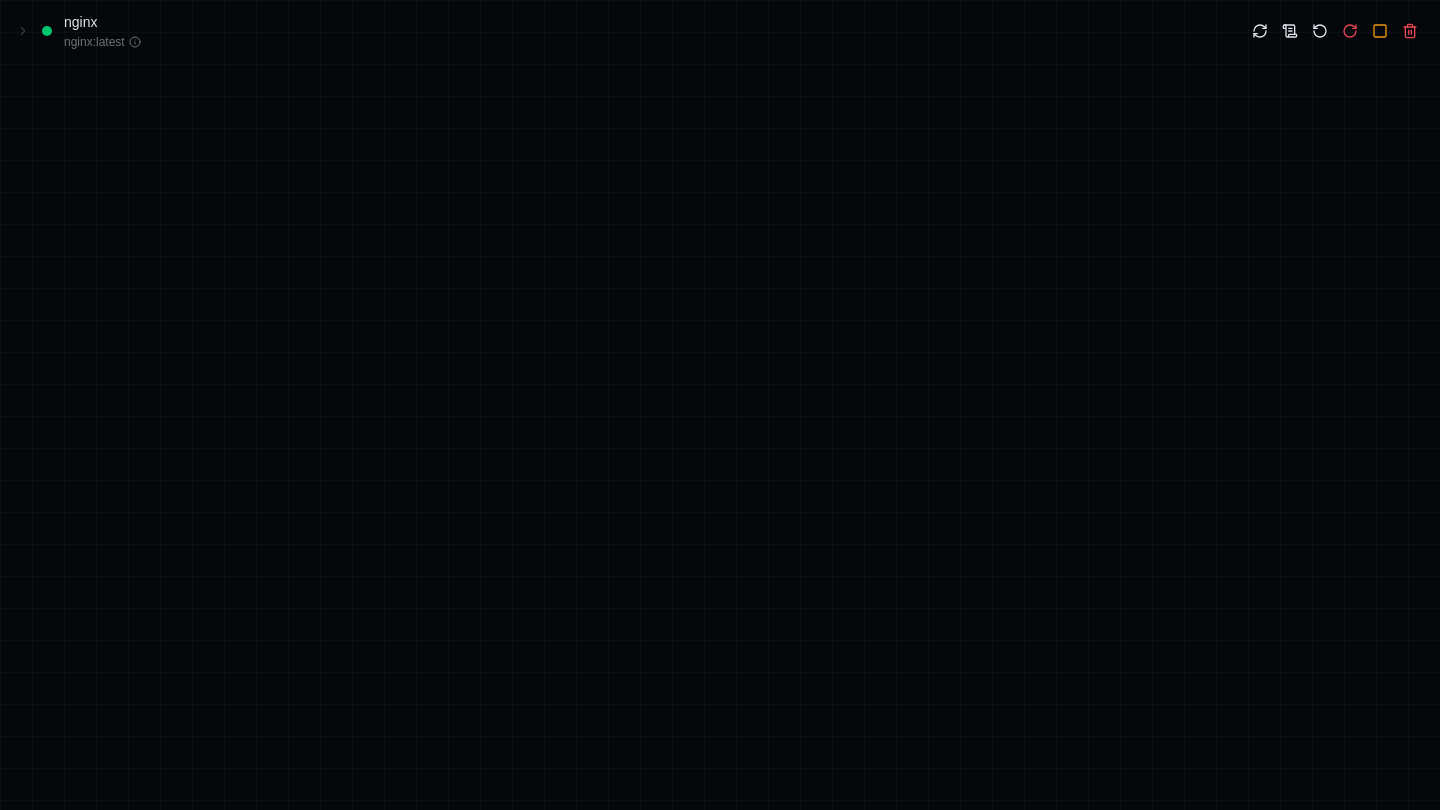
Test: ContainerRow › clicking chevron expands the config panel
Click the button named "Expand": (23, 31) [16,24,30,38]
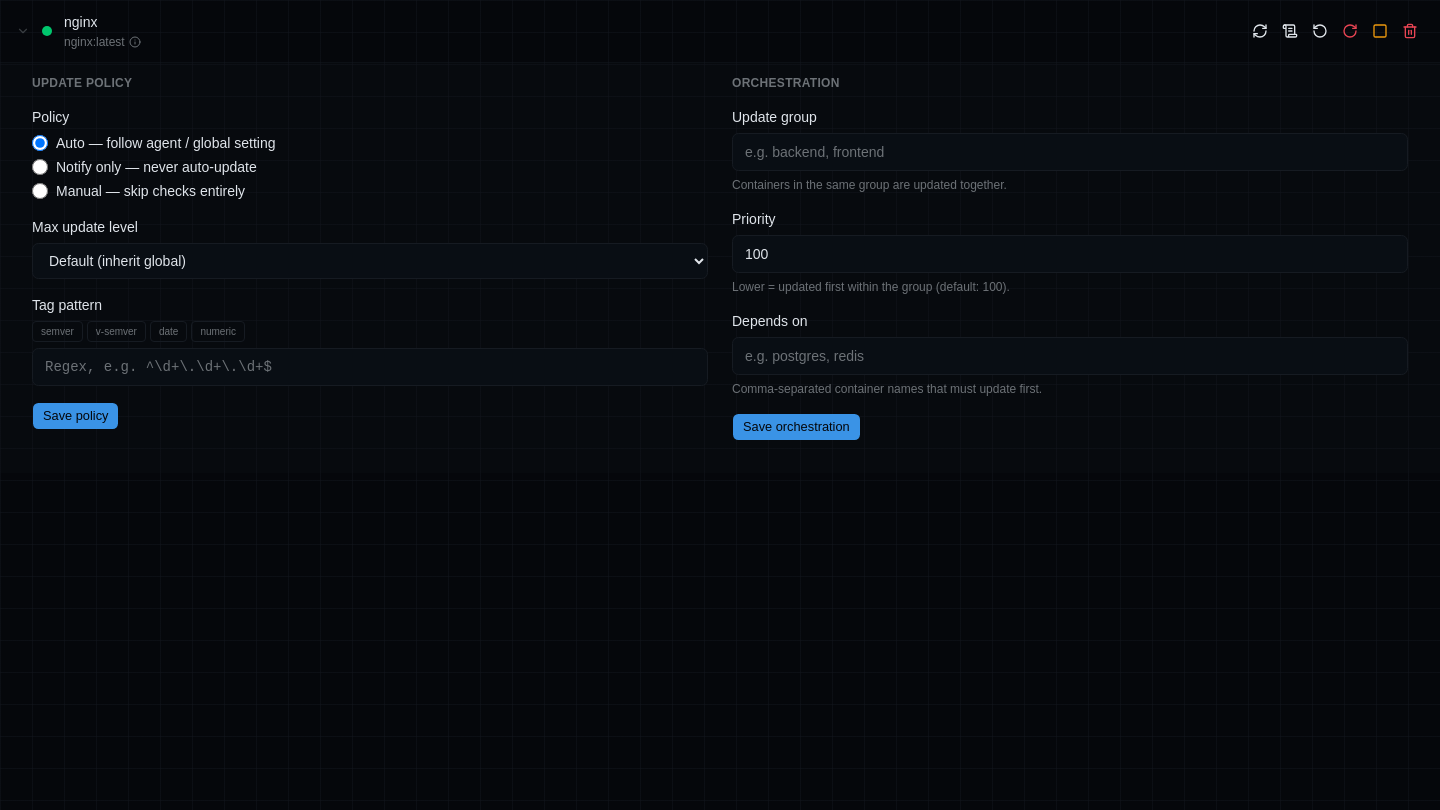
Result: the text "Update Policy" is shown at [32,76,132,90]
Result: the text "Orchestration" is shown at [732,76,840,90]
